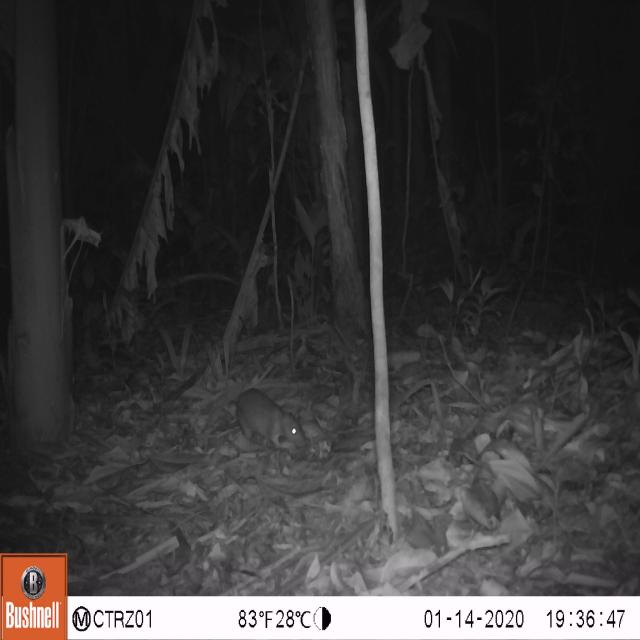Rodent: (224, 374, 329, 468)
